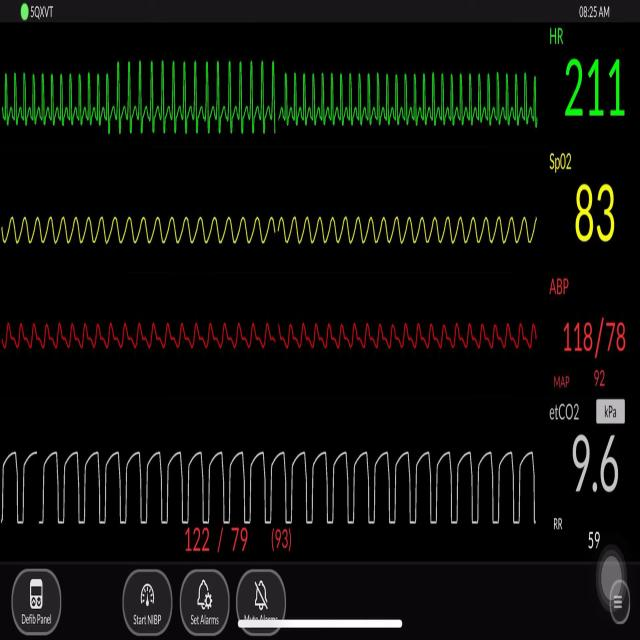danger: (286, 60, 542, 135), (109, 47, 279, 148), (6, 63, 106, 137)
